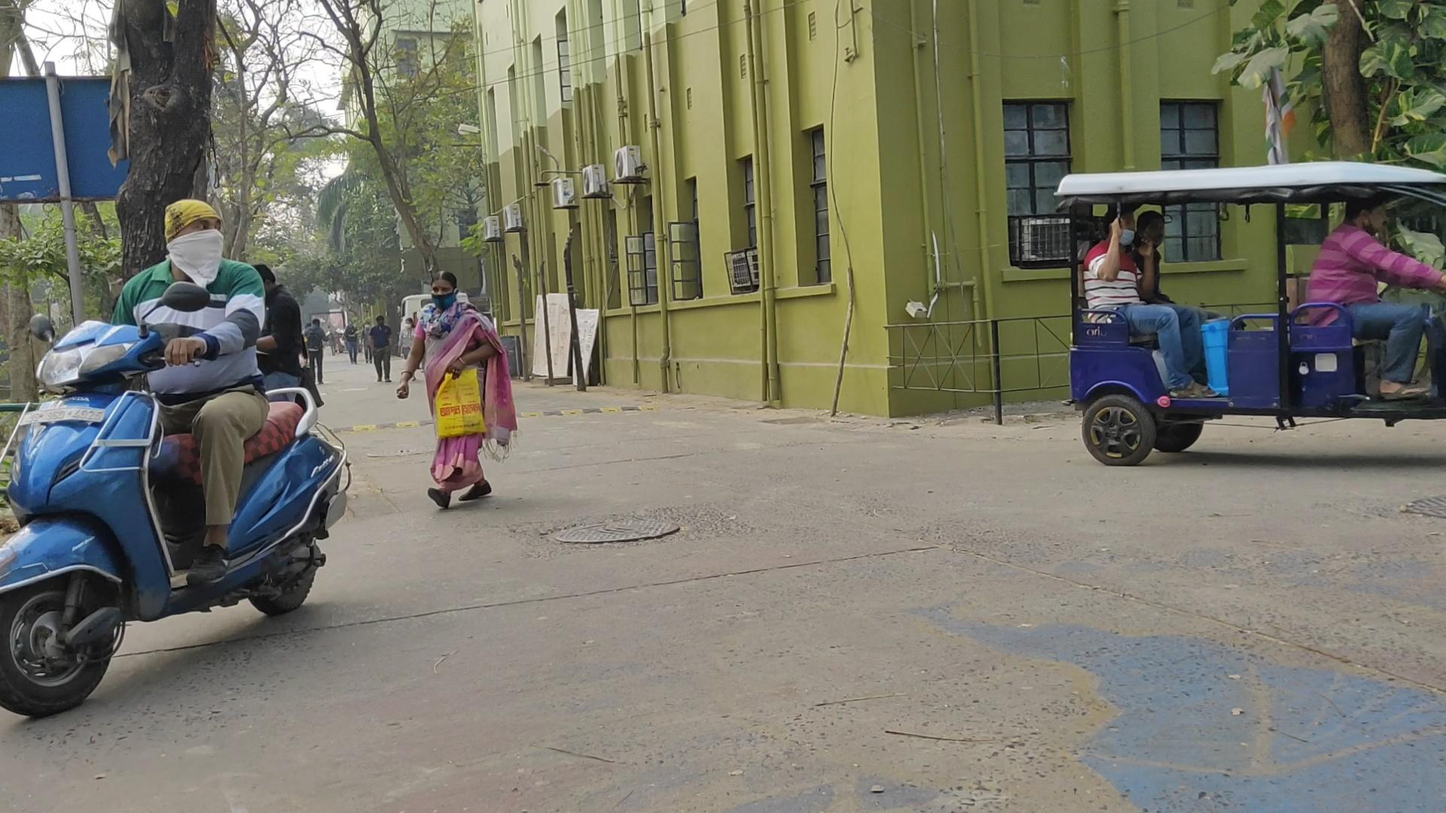Auto: (1055, 160, 1446, 468)
bike: (1, 197, 352, 717)
